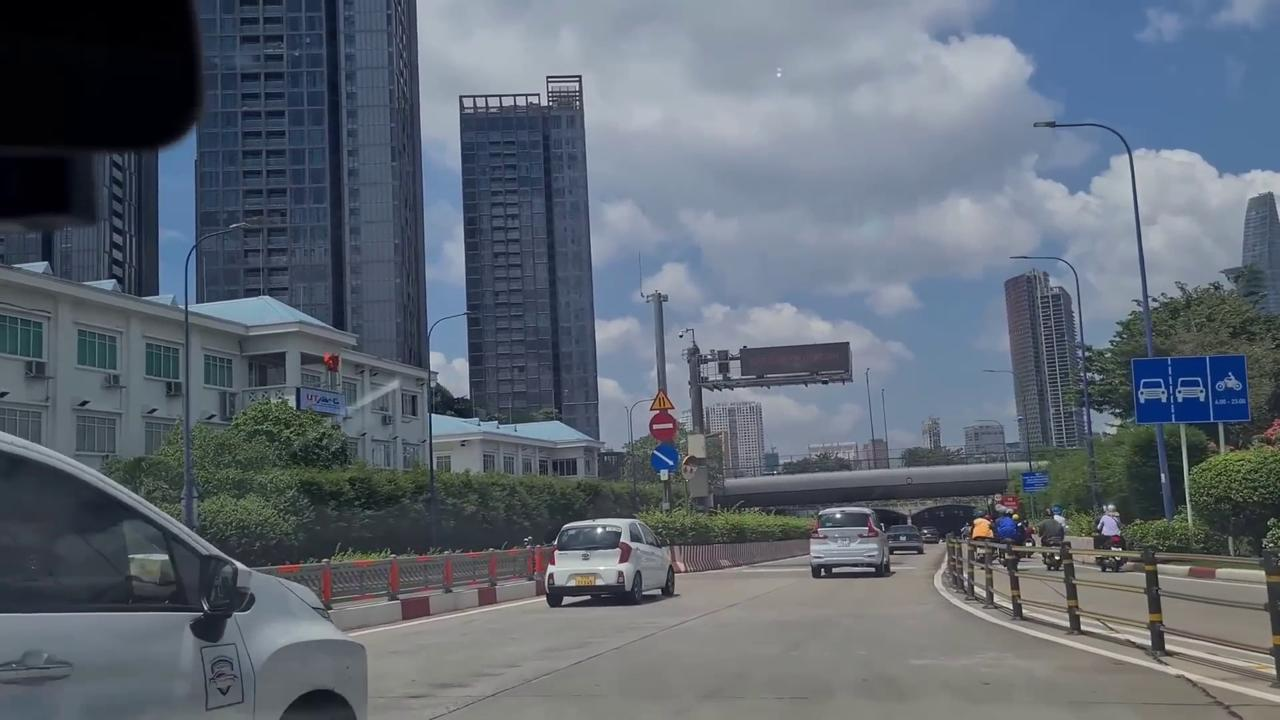Cấm đi ngược chiều: (648, 411, 678, 441)
Hướng phải đi vòng sang phải: (650, 441, 679, 472)
Làn đường cho từng xe: (1130, 352, 1253, 426)
Đuờng hẹp: (648, 388, 676, 412)
